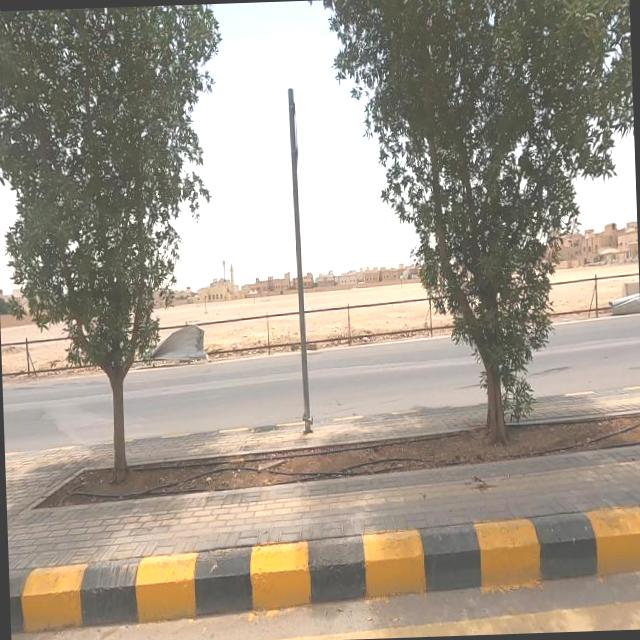debris: (196, 405, 494, 520), (114, 276, 248, 406), (133, 421, 287, 529)
